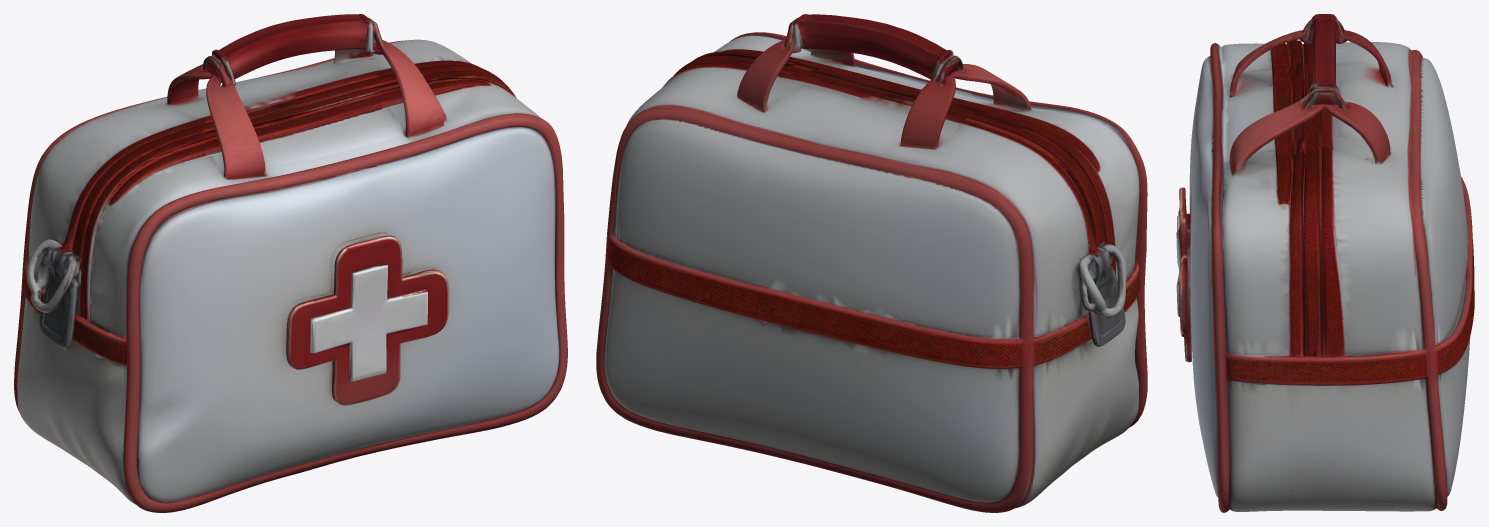
The model's file is medkit.glb.
The picture shows the model from 3 angles, left to right: view 1: azimuth 30°, elevation 25°; view 2: azimuth 150°, elevation 25°; view 3: azimuth 270°, elevation 25°; orthographic projection. The views are drawn at different scales.
Size of the model in its own units: 0.2969 by 0.2399 by 0.1658.
Materials: 1 (1 with a texture image).
